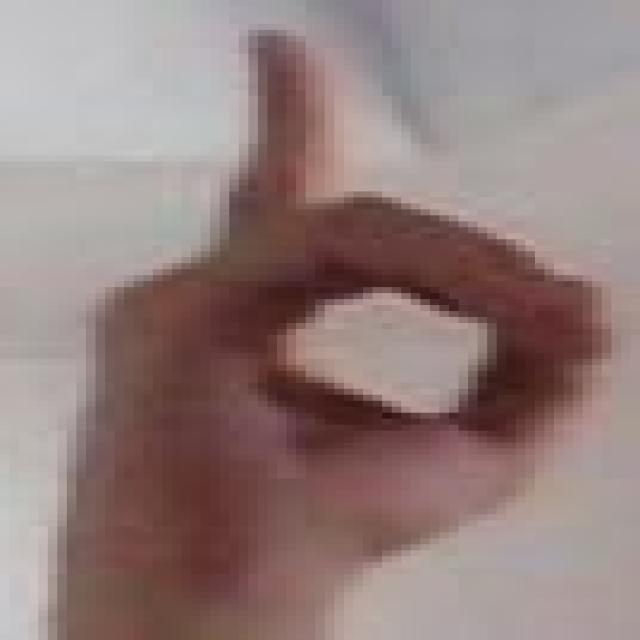D1: (5, 5, 640, 562)
